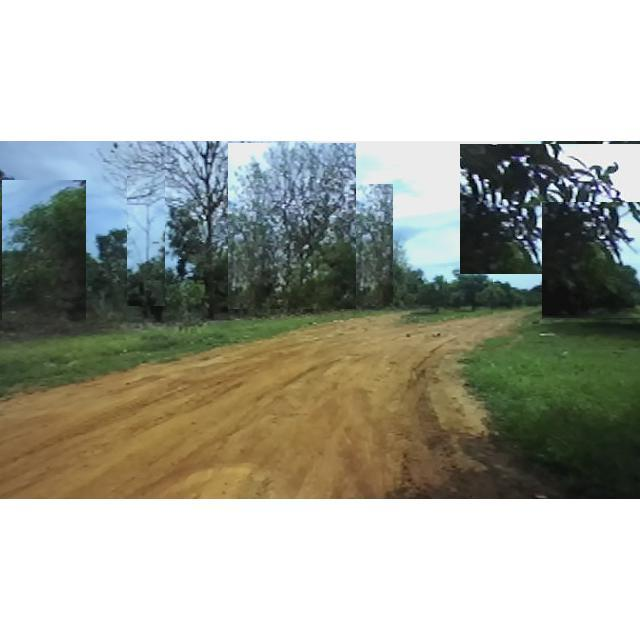direk: (86, 142, 292, 318), (460, 144, 640, 274), (228, 143, 356, 309), (2, 180, 86, 322), (542, 202, 640, 318), (319, 184, 393, 306), (358, 232, 430, 310), (127, 174, 165, 306), (95, 223, 135, 303), (447, 266, 493, 314)
